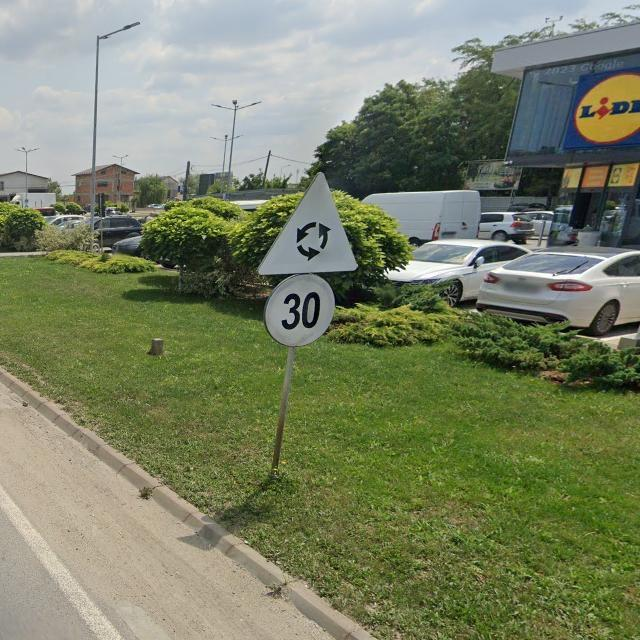forb_speed_over_30: (263, 274, 335, 347)
